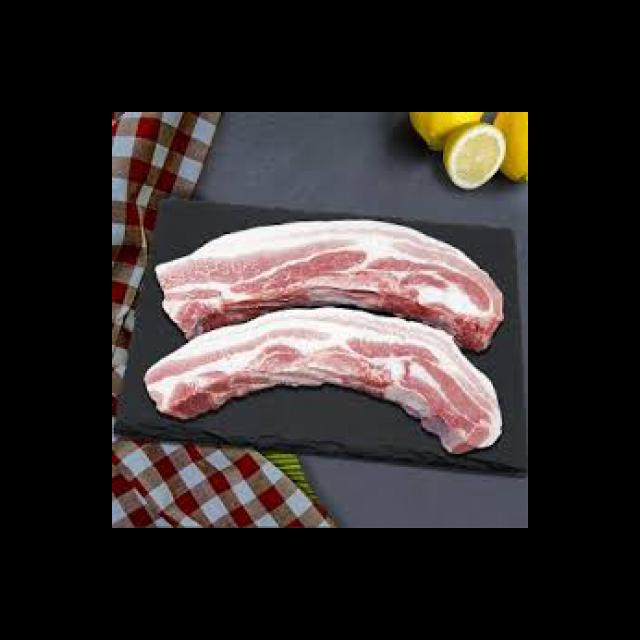pork: (146, 319, 498, 450), (164, 230, 501, 340)
